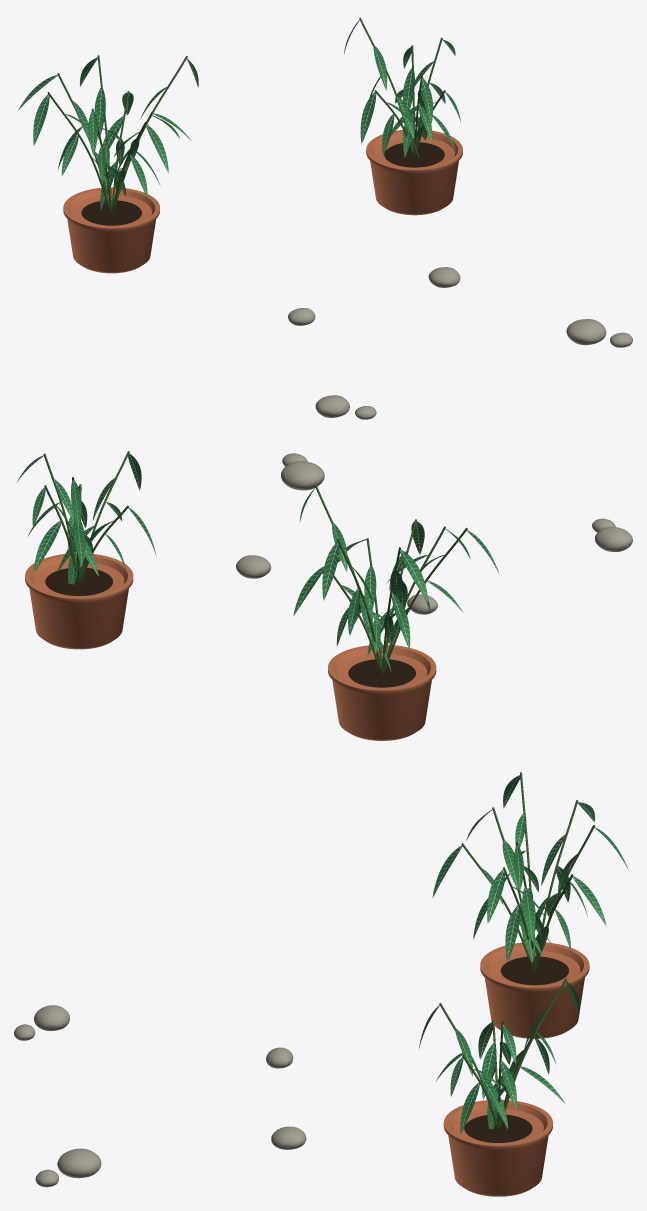
Rendered from botanical.glb.
3 renders of one model, top to bottom at view 1: azimuth 30°, elevation 25°; view 2: azimuth 150°, elevation 25°; view 3: azimuth 270°, elevation 25°, orthographic. The views are drawn at different scales.
Visible parts, largest first — view 1: plant-l-pot, plant-r-pot, Cylinder, Cylinder.001, Icosphere.002, Icosphere; view 2: plant-l-pot, plant-r-pot, Cylinder, Cylinder.001, Icosphere.002, Icosphere, Icosphere.005, plant-l-leaf-2-3, plant-l-leaf-3-3, plant-r-leaf-1-1, plant-l-leaf-3-1, Icosphere.004; view 3: plant-r-pot, plant-l-pot, Cylinder, Cylinder.001, Icosphere.002, Icosphere, Icosphere.005.
Boxes of the visible parts, left/top/right/bottom form: plant-l-pot: left=63, top=187, right=159, bottom=273; plant-r-pot: left=366, top=129, right=462, bottom=215; Cylinder: left=81, top=200, right=141, bottom=225; Cylinder.001: left=384, top=142, right=444, bottom=167; Icosphere.002: left=566, top=319, right=606, bottom=345; Icosphere: left=315, top=395, right=349, bottom=417; plant-l-pot: left=328, top=644, right=436, bottom=740; plant-r-pot: left=25, top=554, right=133, bottom=649; Cylinder: left=348, top=659, right=415, bottom=687; Cylinder.001: left=45, top=567, right=112, bottom=595; Icosphere.002: left=281, top=461, right=324, bottom=490; Icosphere: left=595, top=526, right=632, bottom=551; Icosphere.005: left=236, top=555, right=271, bottom=578; plant-l-leaf-2-3: left=322, top=542, right=339, bottom=600; plant-l-leaf-3-3: left=399, top=549, right=428, bottom=602; plant-r-leaf-1-1: left=33, top=521, right=61, bottom=573; plant-l-leaf-3-1: left=391, top=592, right=410, bottom=649; Icosphere.004: left=407, top=594, right=437, bottom=614; plant-r-pot: left=443, top=1099, right=552, bottom=1196; plant-l-pot: left=480, top=942, right=589, bottom=1038; Cylinder: left=500, top=956, right=568, bottom=985; Cylinder.001: left=464, top=1114, right=532, bottom=1142; Icosphere.002: left=57, top=1148, right=101, bottom=1178; Icosphere: left=34, top=1005, right=69, bottom=1030; Icosphere.005: left=271, top=1126, right=306, bottom=1149.
Size of the model in its own units: 6.26 by 2.66 by 6.8.
9 materials, 2 textured.
